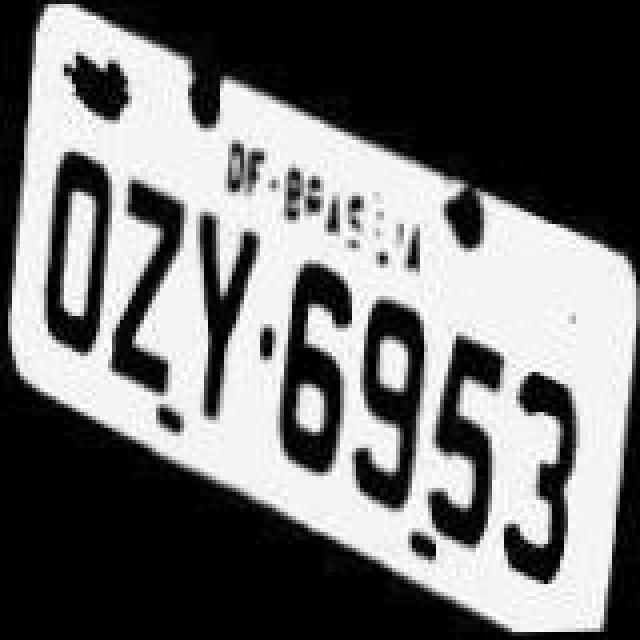3: (498, 362, 578, 598)
5: (424, 330, 508, 574)
6: (278, 256, 358, 500)
9: (352, 292, 428, 540)
O: (38, 148, 122, 388)
Y: (196, 210, 268, 462)
Z: (110, 176, 186, 424)
